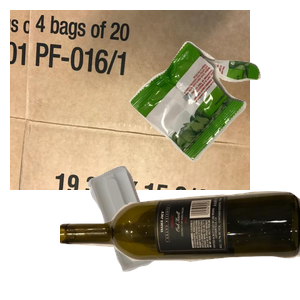cardboard: (10, 10, 250, 190)
glass: (60, 189, 300, 300)
plastic: (85, 163, 235, 300)
trash: (127, 39, 300, 193)
